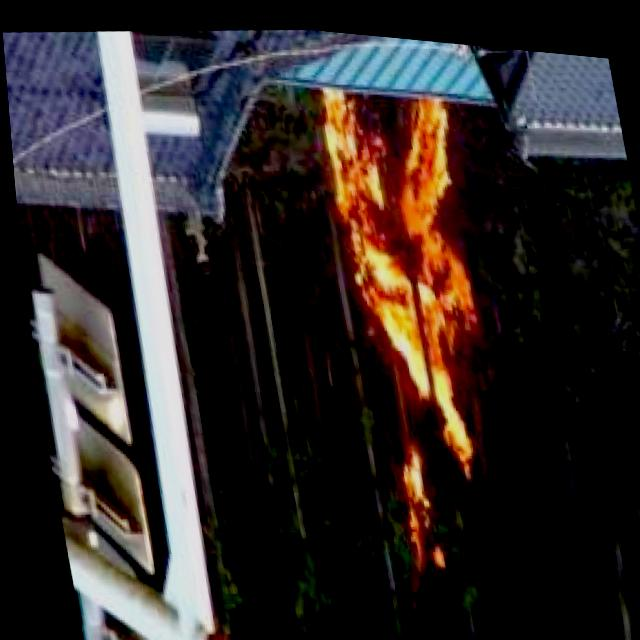Fire: (303, 63, 507, 459), (371, 445, 441, 563)
